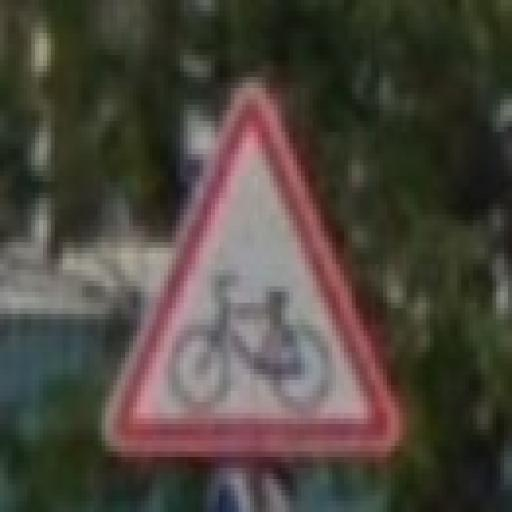traffic_sign: (99, 78, 408, 464)
